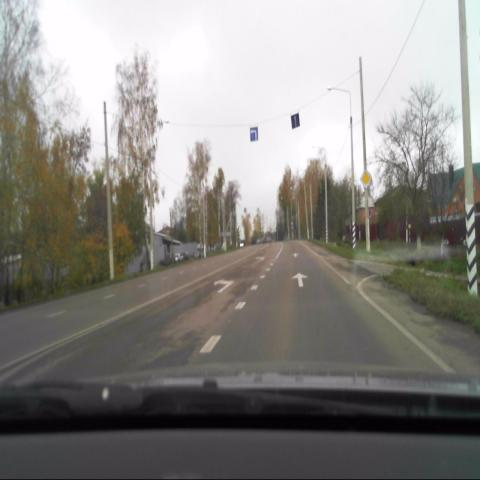2_1: (360, 169, 372, 189)
5_15_2: (290, 113, 300, 130), (250, 128, 258, 142)
